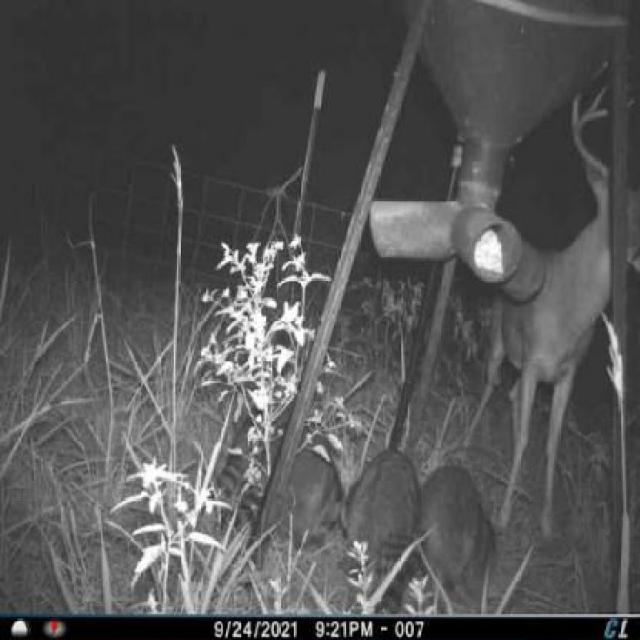Deer: (452, 84, 636, 548)
